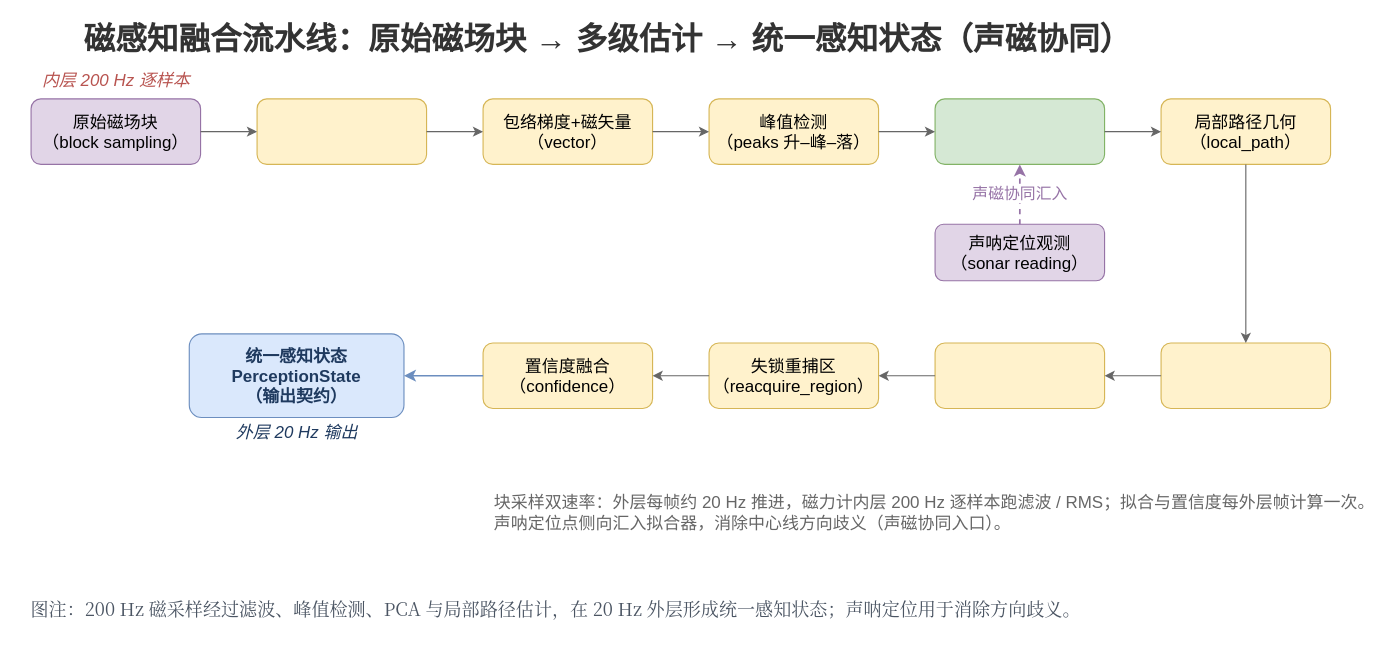
The diagram is 1393 pixels wide and 667 high, and some of its shapes have lost their labels. The box of each missing label's shape, as (x1, y1, x2, y2) in pixels:
加权 PCA 中心线拟合 （fitter）: (934, 98, 1105, 164)
无峰磁路径/前视/影子 （magnetic_path）: (1160, 342, 1331, 408)
横偏+埋深反演 （cross_track·burial）: (934, 342, 1105, 408)
滤波 / RMS 包络 （filters）: (256, 98, 427, 164)
